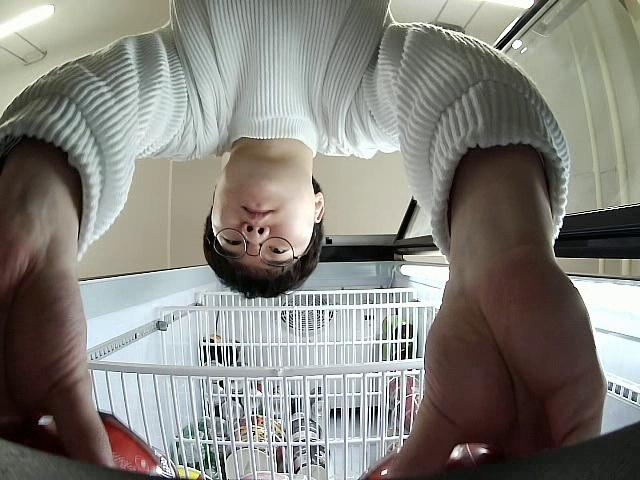00_hand: (386, 246, 607, 480), (0, 189, 117, 469)
02_shinRamen_S: (19, 406, 166, 480)
